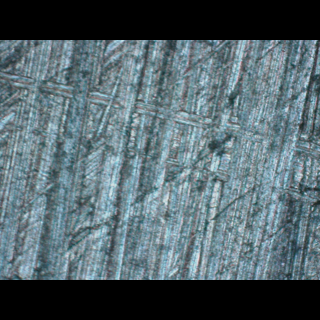d: (2, 64, 320, 209)
